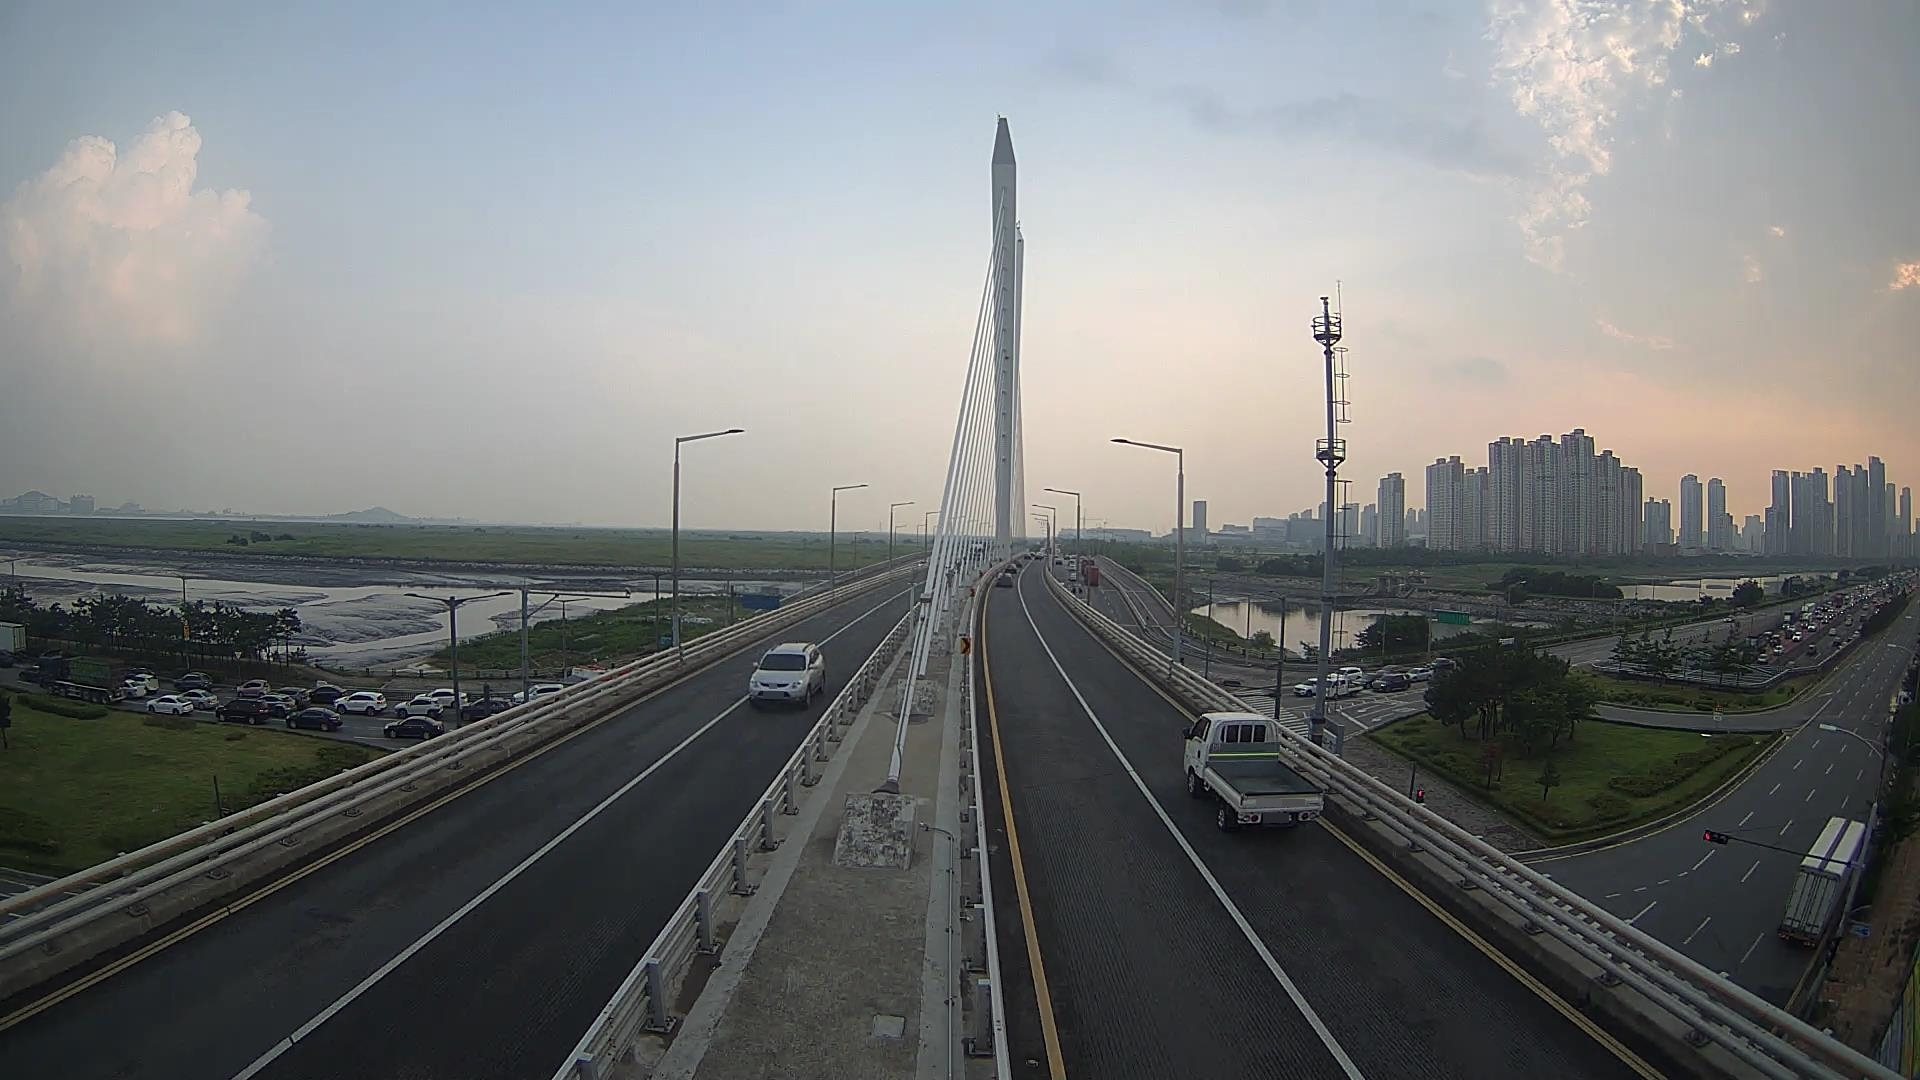정상차량: (1182, 712, 1324, 830)
